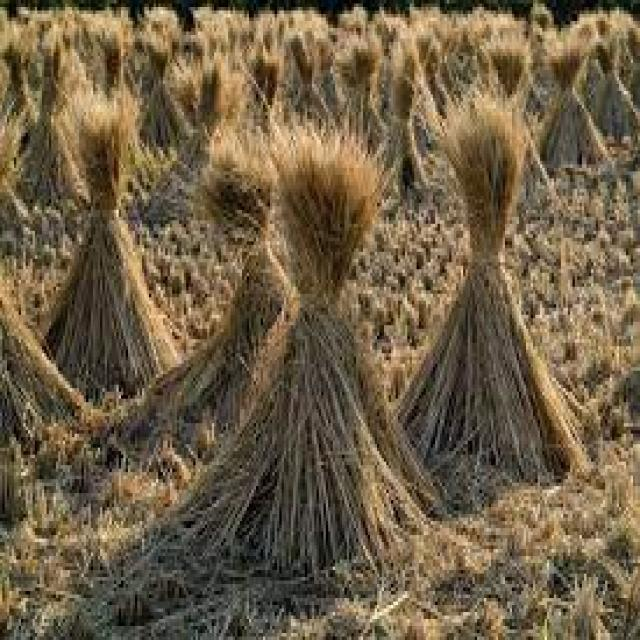stubble_waste: (191, 117, 397, 552), (425, 100, 571, 516), (56, 102, 158, 378), (185, 11, 380, 116), (0, 4, 158, 101), (547, 10, 640, 172)
